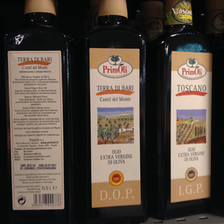oil: (2, 2, 79, 222), (79, 1, 152, 224), (149, 2, 215, 220)
